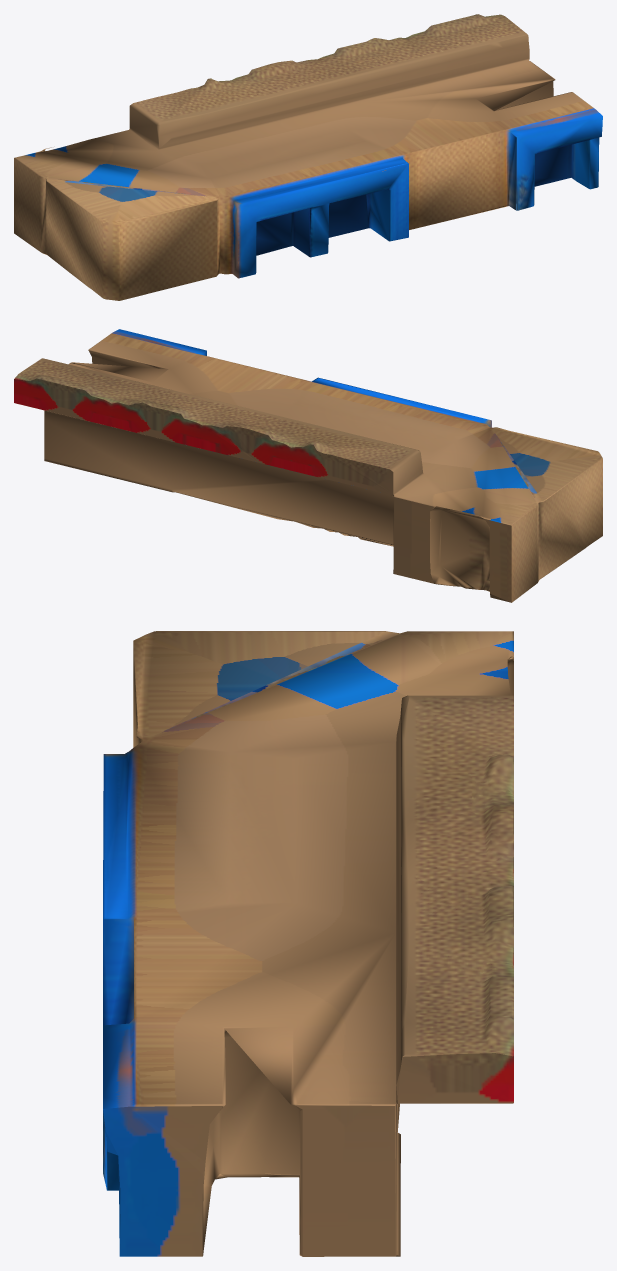
Rendered from 9-roof-front-left.fbx.
3 views of the same model, one above another, from view 1: azimuth 30°, elevation 25°; view 2: azimuth 150°, elevation 25°; view 3: azimuth 270°, elevation 25° (orthographic). The views are drawn at different scales.
Parts seen in each view (by area): view 1: roof-front-left; view 2: roof-front-left; view 3: roof-front-left.
Boxes of the visible parts, x1,y1,x2,y2 form: roof-front-left: (14, 14, 602, 300); roof-front-left: (14, 329, 602, 602); roof-front-left: (103, 631, 513, 1256).
Bounding box in the file's own units: 5043 × 1071 × 1845.
1 material, 1 textured.
